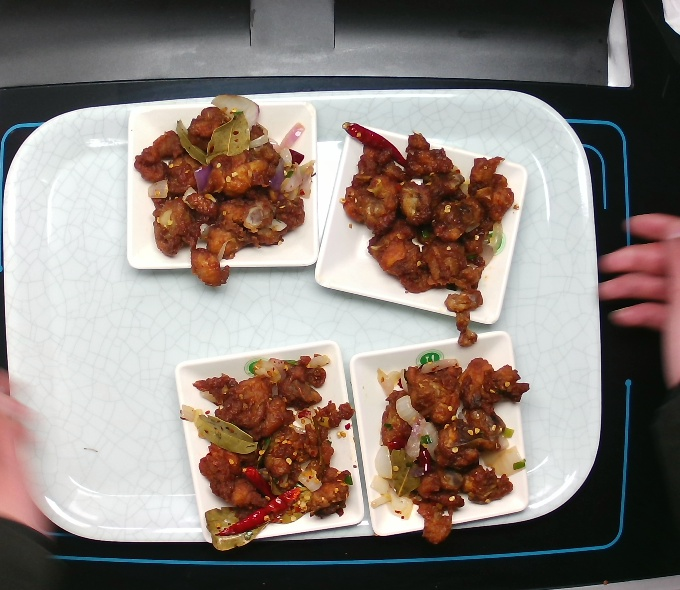wcq-LaZiJiKuai: (337, 119, 516, 348), (128, 92, 317, 293), (177, 352, 357, 544), (358, 354, 538, 546)
